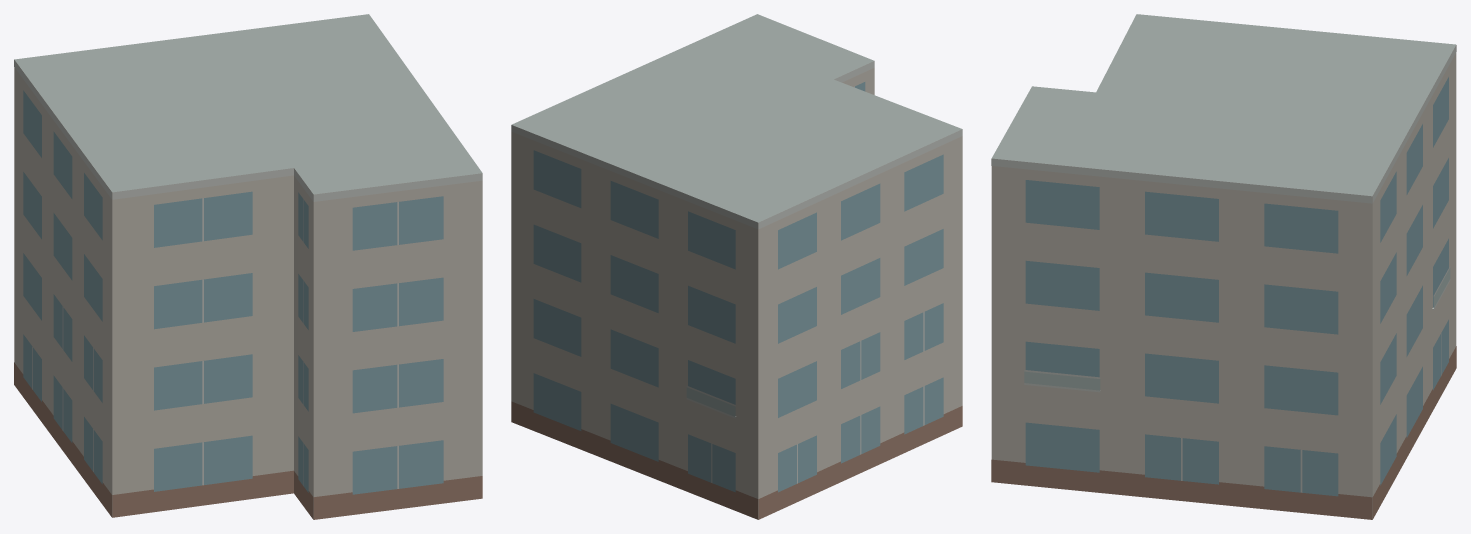
The model's file is survey-upis-32794476.glb.
3 renders of one model, left to right at view 1: azimuth 30°, elevation 25°; view 2: azimuth 150°, elevation 25°; view 3: azimuth 270°, elevation 25°, orthographic. The views are drawn at different scales.
Parts seen in each view (by area): view 1: survey-upis-32794476.tmp; view 2: survey-upis-32794476.tmp; view 3: survey-upis-32794476.tmp.
Boxes of the visible parts, <box> form: survey-upis-32794476.tmp: <box>14,14,482,519</box>; survey-upis-32794476.tmp: <box>511,14,962,519</box>; survey-upis-32794476.tmp: <box>991,14,1456,519</box>.
Size of the model in its own units: 12.93 by 10.7 by 13.95.
